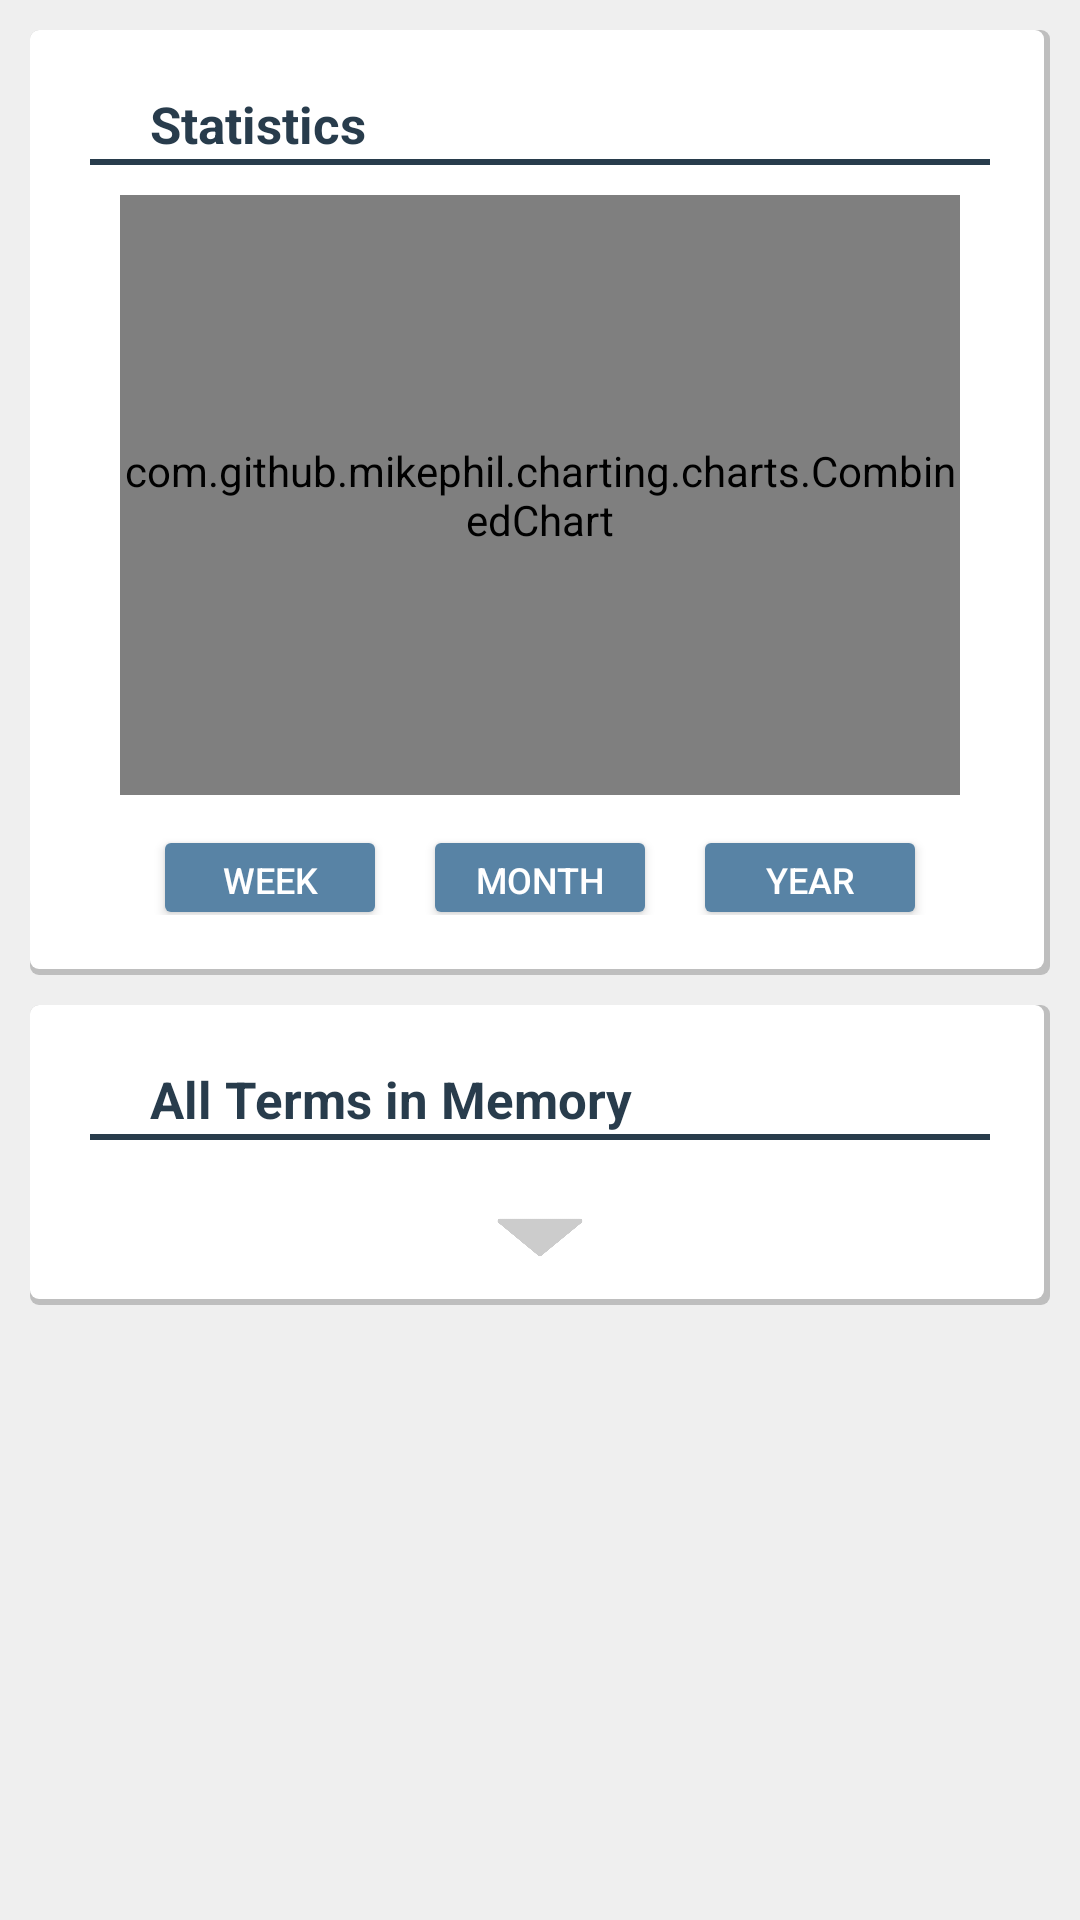

Where icons sit on this 1080*1920 app screen, as (x1, y1, x2, y2):
expand: (498, 1219, 582, 1256)
